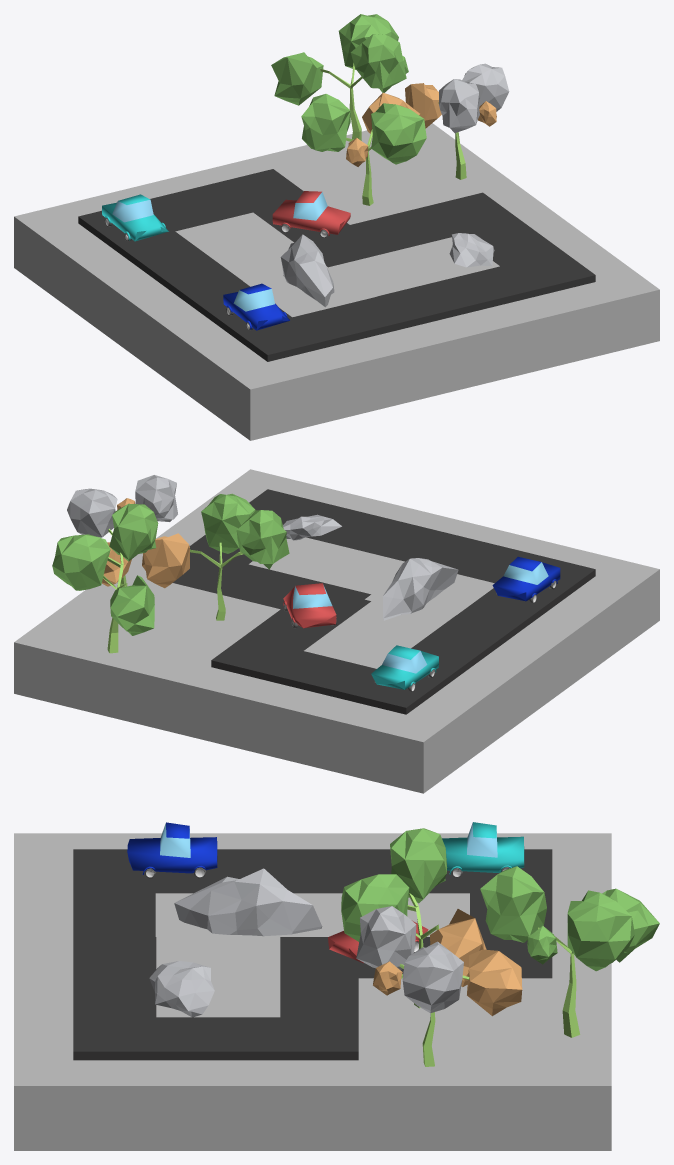
The model's file is building_racetrack.fbx.
3 renders of one model, top to bottom at view 1: azimuth 30°, elevation 25°; view 2: azimuth 150°, elevation 25°; view 3: azimuth 270°, elevation 25°, orthographic. The views are drawn at different scales.
Parts seen in each view (by area): view 1: bush2.001; view 2: bush2.001; view 3: bush2.001.
Part boxes in pixels (box(x1,y1,x2,y2)): bush2.001: box(14, 14, 659, 440); bush2.001: box(14, 469, 659, 793); bush2.001: box(14, 822, 659, 1150).
Size of the model in its own units: 51.59 by 21.3 by 54.04.
